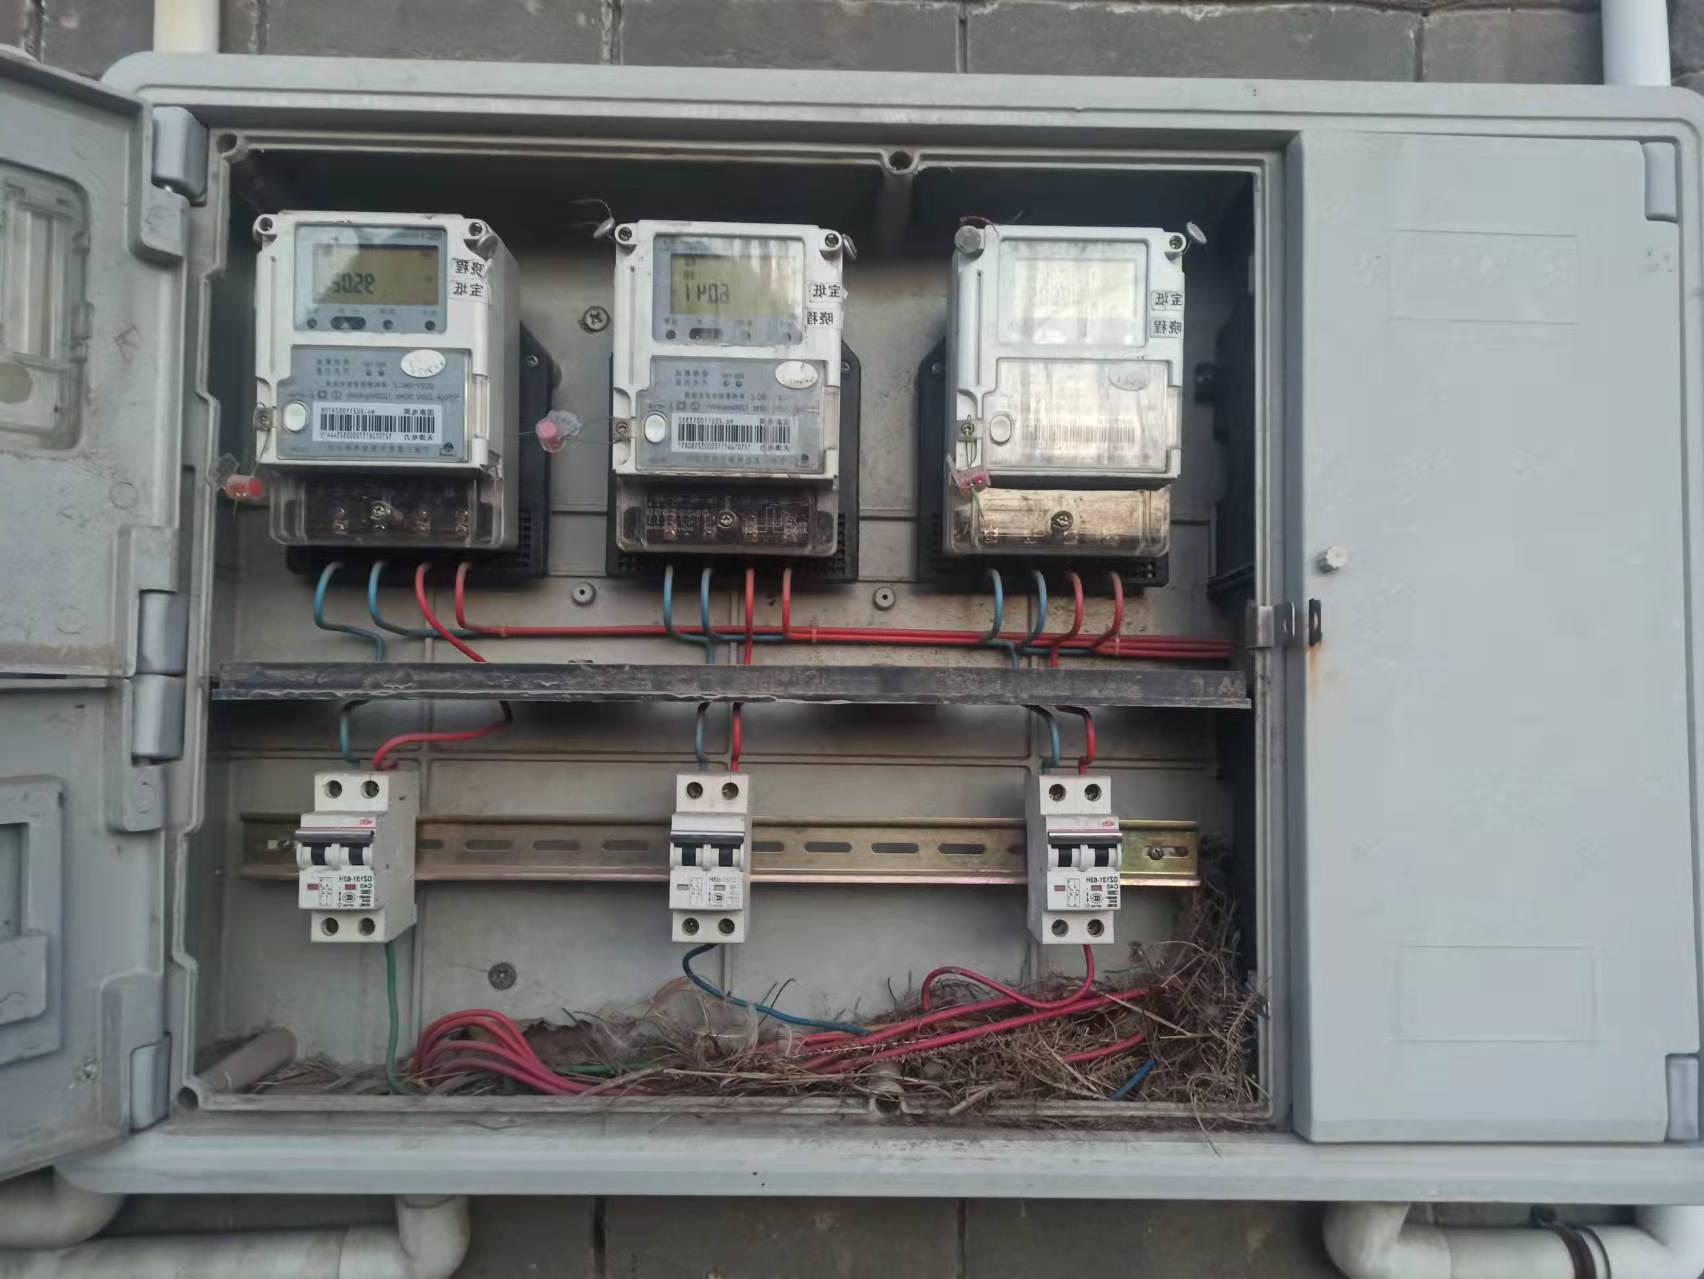digital: (618, 218, 845, 480), (255, 210, 483, 464), (949, 226, 1183, 473)
